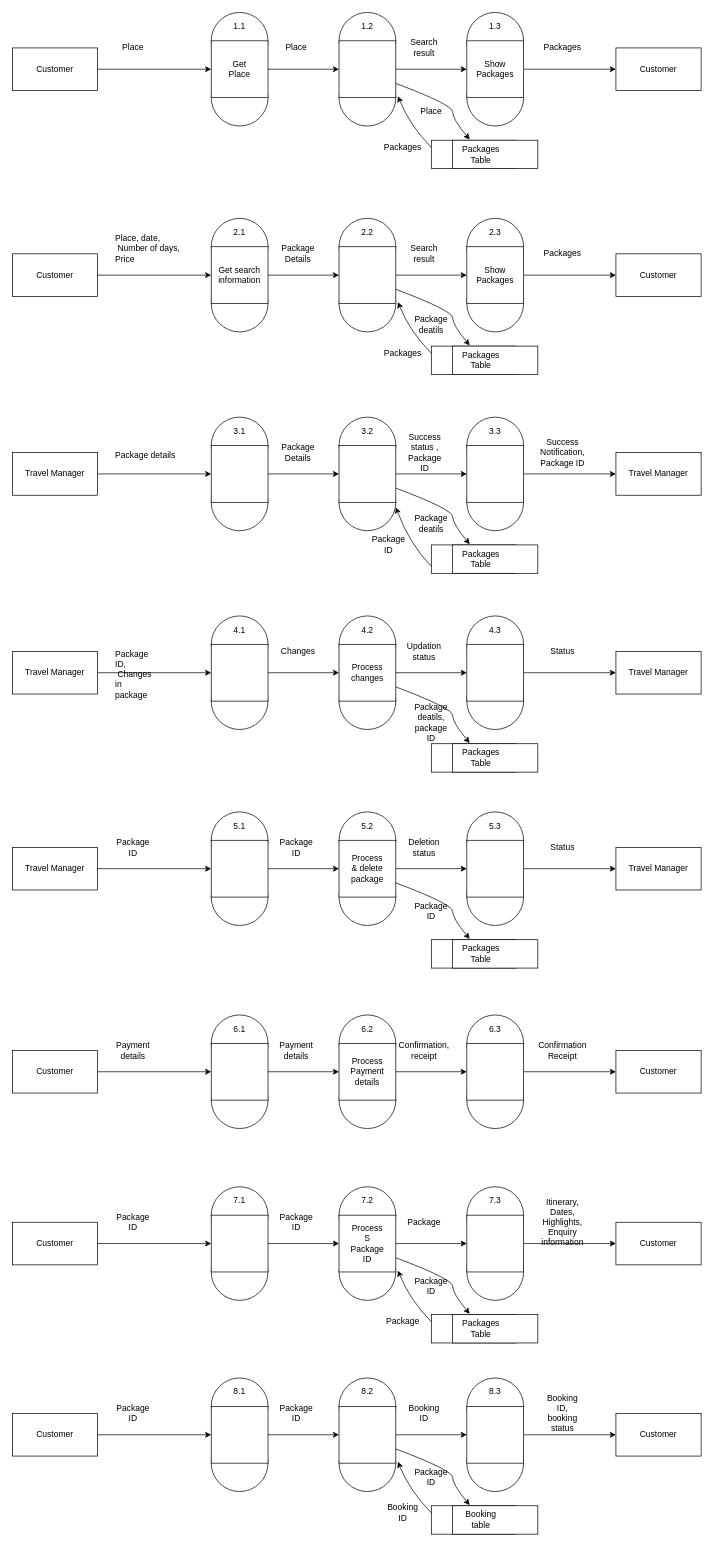
The diagram is 714 pixels wide and 1547 high, and some of its shapes have lost their labels. Each missing label, with the box of its shape:
Custom Search Packages: (338, 246, 396, 304)
Display Package info: (466, 1214, 524, 1272)
Display status: (466, 840, 524, 897)
Display success: (466, 445, 524, 502)
Display updation status: (466, 644, 524, 701)
Get D Package ID: (211, 1406, 268, 1463)
Get package details: (211, 445, 268, 502)
Get Package ID: (211, 840, 268, 897)
Get package ID and Changes: (211, 644, 268, 701)
Get Payment details: (211, 1043, 268, 1100)
Get S package ID: (211, 1214, 268, 1272)
Process D Package ID: (338, 1406, 396, 1463)
Process Package details: (338, 445, 396, 502)
Search Packages: (338, 40, 396, 98)
Show Booking ID: (466, 1406, 524, 1463)
Show Receipt: (466, 1043, 524, 1100)
